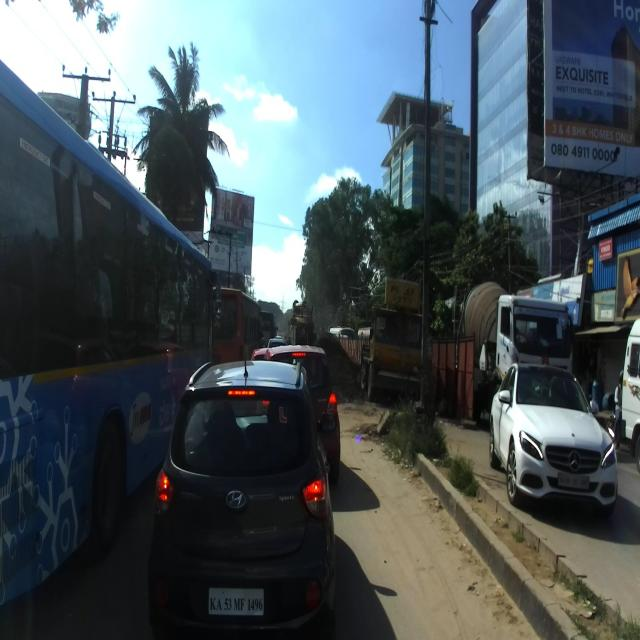bus: (0, 62, 220, 632)
car: (148, 362, 334, 640), (489, 354, 619, 512), (262, 345, 341, 483)
truck: (439, 279, 581, 415)
